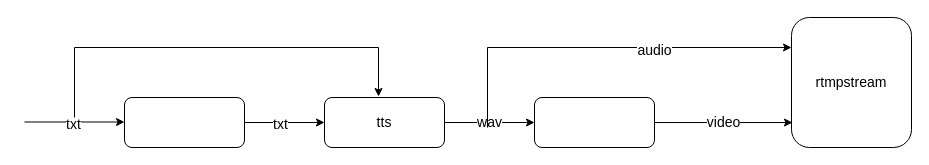
The diagram is 929 pixels wide and 165 high, and some of its shapes have lost their labels. Each missing label, with the centre of its shape:
2lip: [594,122]
llm: [184,122]
